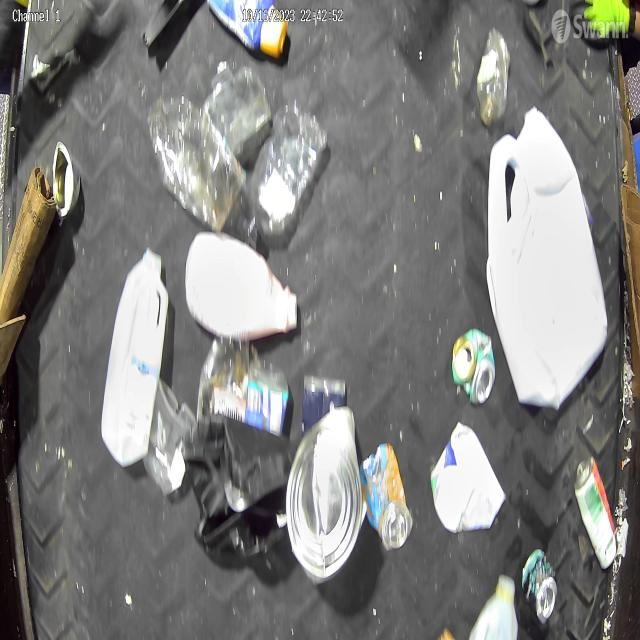can: (575, 454, 617, 568), (451, 328, 495, 408), (47, 143, 81, 223), (524, 549, 558, 625)
milk_jug: (484, 114, 607, 409), (102, 248, 170, 470), (184, 231, 297, 342), (470, 574, 520, 640)
plastic_bottle: (250, 104, 328, 238), (476, 28, 512, 124)
